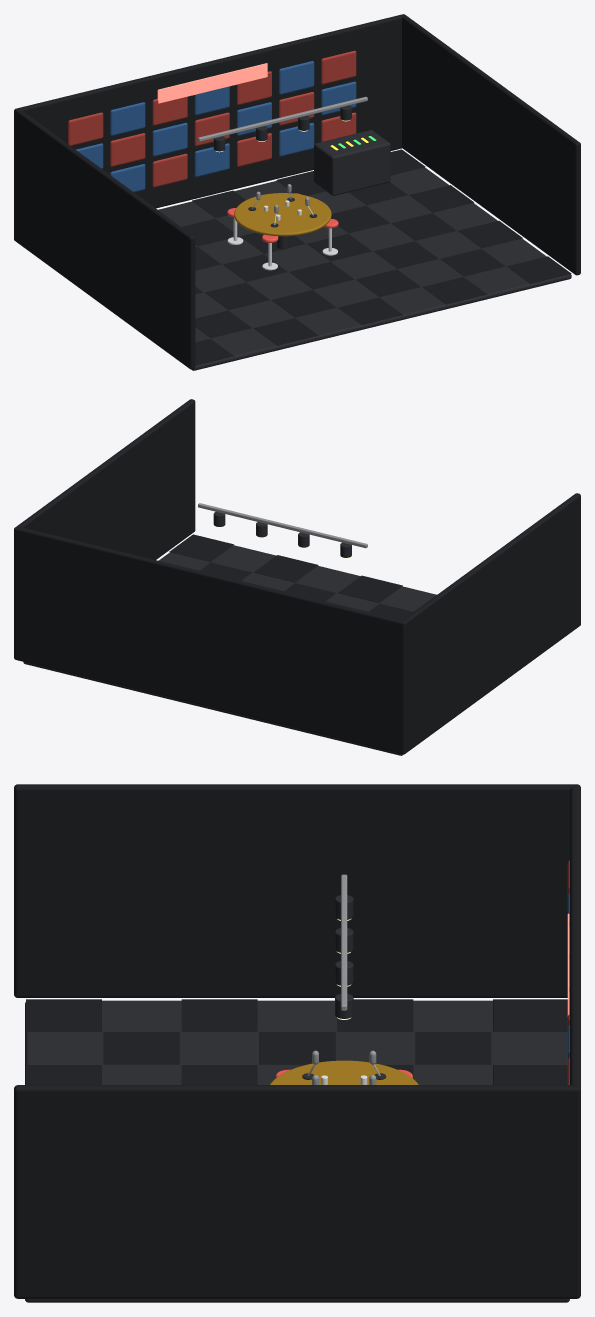
File: podcast_studio.glb
The picture shows the model from 3 angles, top to bottom: view 1: azimuth 30°, elevation 25°; view 2: azimuth 150°, elevation 25°; view 3: azimuth 270°, elevation 25°; orthographic projection. The views are drawn at different scales.
Parts seen in each view (by area): view 1: Set, Flat_001, Glow, Flat_022, Flat_025, Flat_028, Flat_031, Flat_012, Flat_015, Flat_018, Flat_019, Flat_026 (+15 smaller); view 2: Set, Flat_001, Flat_026, Flat_019, Flat_033, Flat_022, Flat_029; view 3: Set, Flat_001, Flat_004, Flat_006, Flat_008, Flat_005, Flat_002, Flat_007, Flat_003, Flat_011, Flat_012, Flat_009.
Part boxes in pixels (x1,y1,x2,y2): Set: (14,14,580,369); Flat_001: (158,167,571,370); Glow: (157,63,376,150); Flat_022: (356,269,420,296); Flat_025: (374,241,438,268); Flat_028: (391,213,456,240); Flat_031: (409,185,473,212); Flat_012: (254,318,318,345); Flat_015: (272,290,336,317); Flat_018: (289,262,354,289); Flat_019: (338,297,402,324); Flat_026: (423,277,487,304); Set: (14,399,580,754); Flat_001: (23,545,436,755); Flat_026: (254,555,318,582); Flat_019: (338,575,402,602); Flat_033: (169,534,233,561); Flat_022: (284,583,336,601); Flat_029: (200,562,251,580); Set: (14,784,580,1298); Flat_001: (25,1000,569,1302); Flat_004: (181,999,257,1031); Flat_006: (415,1032,491,1064); Flat_008: (103,1032,179,1064); Flat_005: (26,999,101,1031); Flat_002: (493,999,567,1031); Flat_007: (259,1032,335,1064); Flat_003: (337,999,413,1031); Flat_011: (181,1065,257,1084); Flat_012: (26,1065,101,1084); Flat_009: (493,1065,567,1084).
Bounding box in the file's own units: 9.28 × 3.12 × 7.28.
